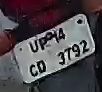1: (53, 31, 60, 44)
2: (79, 38, 89, 55)
3: (56, 51, 65, 66)
4: (58, 28, 67, 41)
7: (63, 45, 74, 63)
9: (72, 43, 79, 59)
C: (28, 64, 38, 77)
D: (36, 59, 46, 74)
P: (37, 36, 46, 50)
U: (28, 38, 38, 53)
